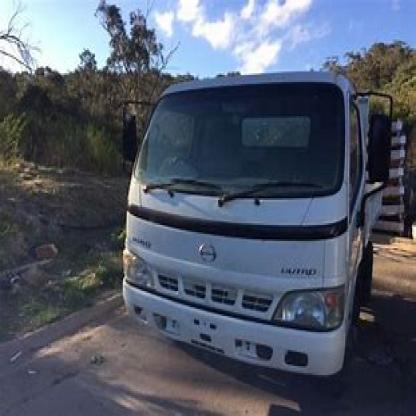dump_truck: (124, 59, 411, 384)
